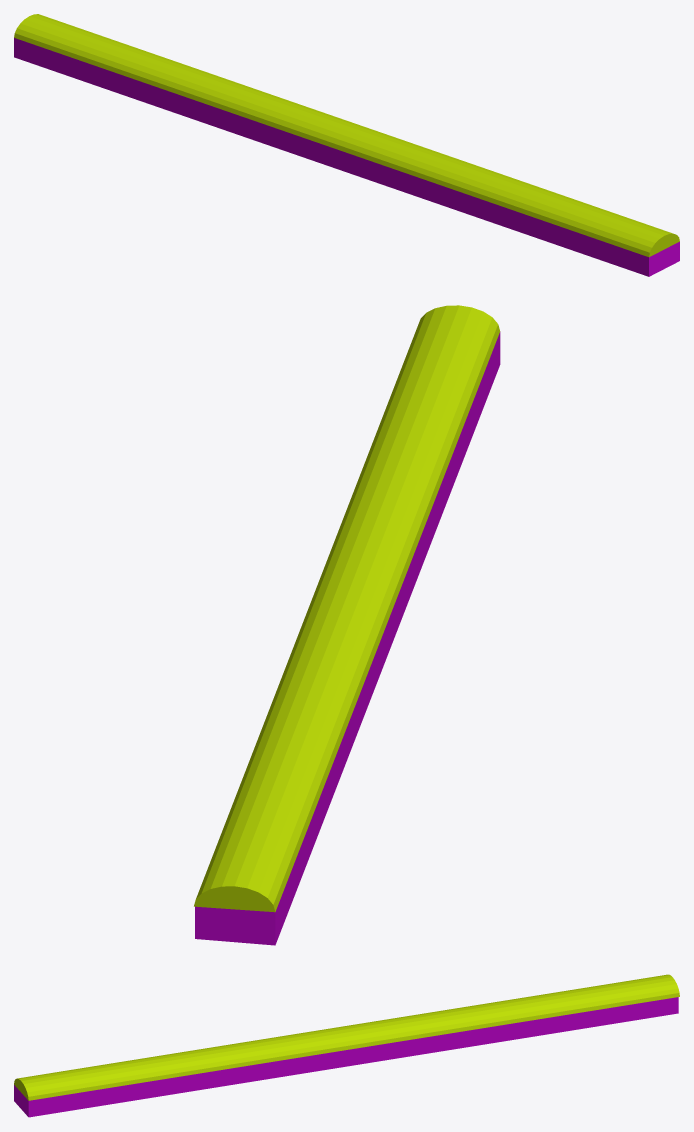
3 renders of one model, top to bottom at view 1: azimuth 30°, elevation 25°; view 2: azimuth 150°, elevation 25°; view 3: azimuth 270°, elevation 25°, orthographic. The views are drawn at different scales.
Visible parts, largest first — view 1: sc_8; view 2: sc_8; view 3: sc_8.
Part boxes in pixels (box(x1,y1,x2,y2)): sc_8: box(14, 14, 679, 276); sc_8: box(194, 305, 500, 945); sc_8: box(14, 974, 679, 1117).
Bounding box in the file's own units: 49.12 × 5.37 × 115.
